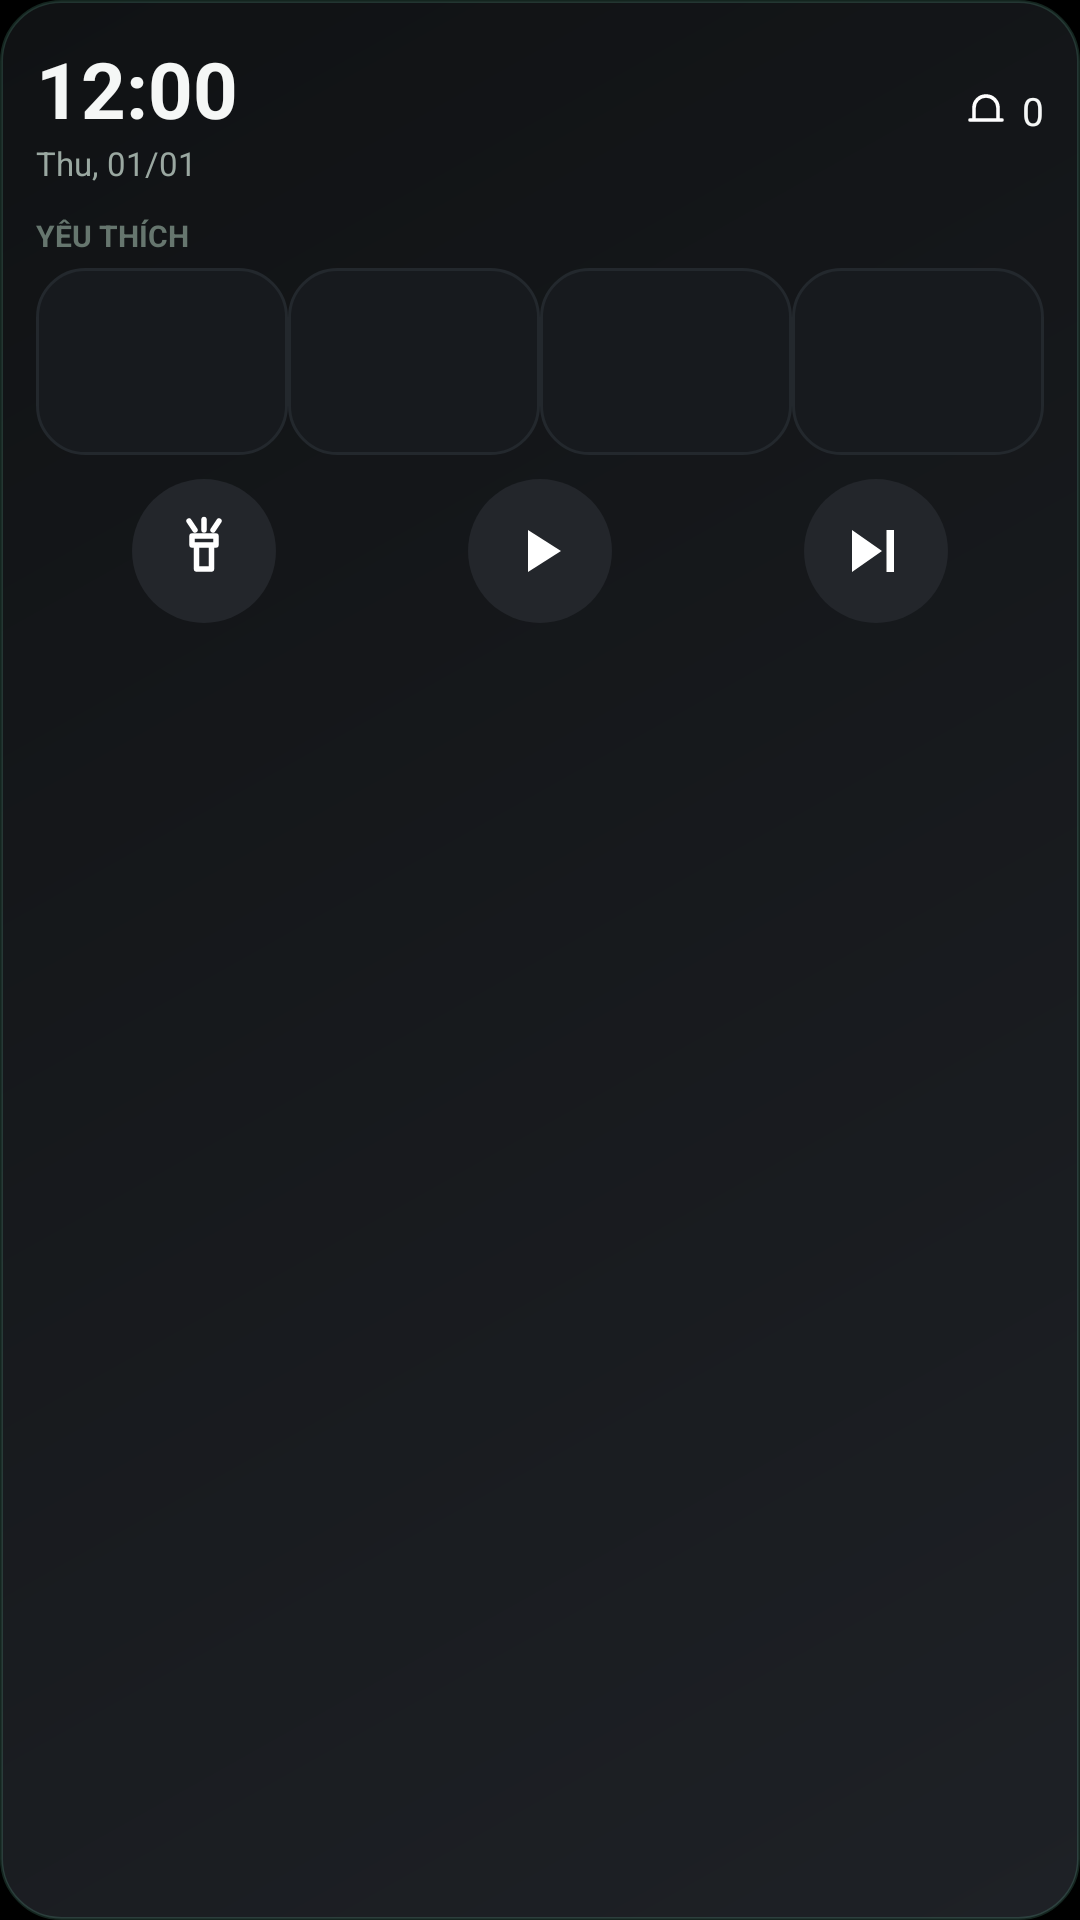

Point at icon controls on the screen. Image size 1080×1920, points as point (x, y).
Bài kế: point (873, 551)
Phát / tạm dừng nhạc: point (544, 551)
Thông báo: point (986, 108)
Đèn pin: point (204, 544)
